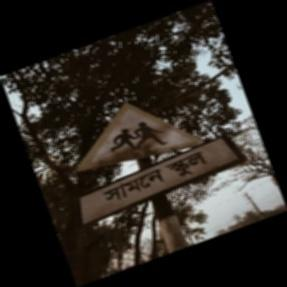School-in-front: (75, 103, 240, 228)
